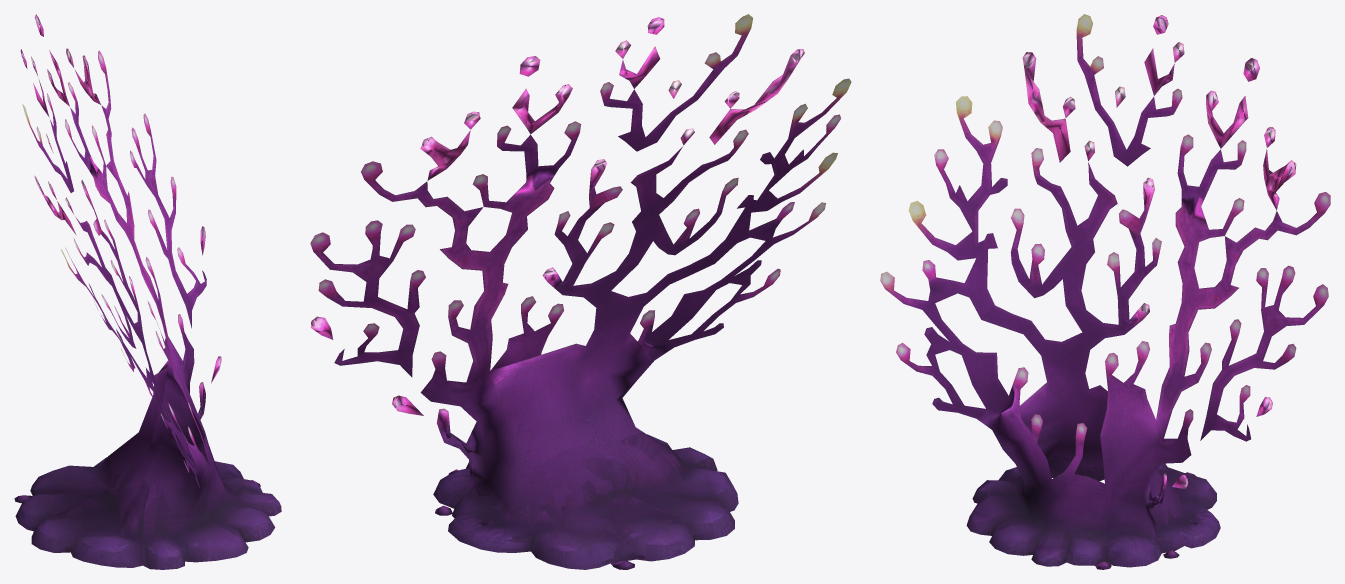
File: glowing_purple_coral.glb
3 views of the same model, side by side, from view 1: azimuth 30°, elevation 25°; view 2: azimuth 150°, elevation 25°; view 3: azimuth 270°, elevation 25° (orthographic). The views are drawn at different scales.
Visible parts, largest first — view 1: tripo_node_366fac2b-7408-40a0-ad21-bc472f3911de; view 2: tripo_node_366fac2b-7408-40a0-ad21-bc472f3911de; view 3: tripo_node_366fac2b-7408-40a0-ad21-bc472f3911de.
Boxes of the visible parts, x1,y1,x2,y2 form: tripo_node_366fac2b-7408-40a0-ad21-bc472f3911de: [14, 14, 281, 569]; tripo_node_366fac2b-7408-40a0-ad21-bc472f3911de: [310, 14, 851, 569]; tripo_node_366fac2b-7408-40a0-ad21-bc472f3911de: [880, 14, 1330, 569].
Size of the model in its own units: 0.6816 by 0.998 by 0.8965.
1 material, 1 textured.
